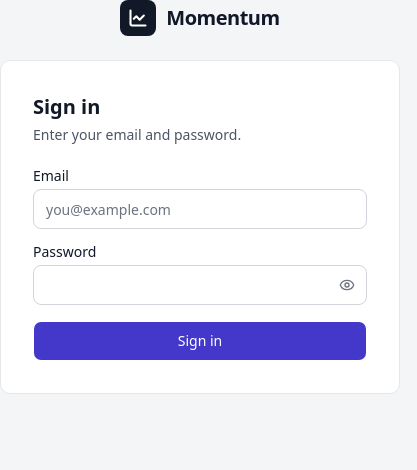
LoginCard › shows the server error and clears the password
This screenshot has width=417, height=470.
Step 1. Type "me@example.com" into the field labelled "Email" → (200, 209), box [33,189,367,229]
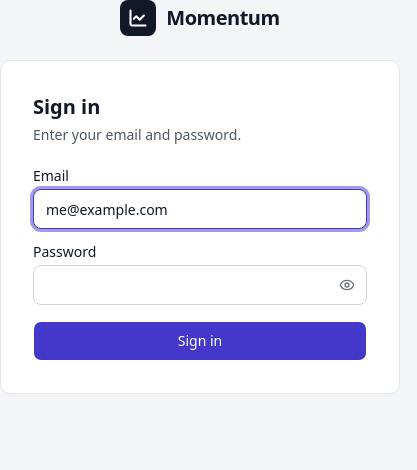
Step 2. Type "bad" into the password field labelled "Password" → (200, 285), box [33,265,367,305]
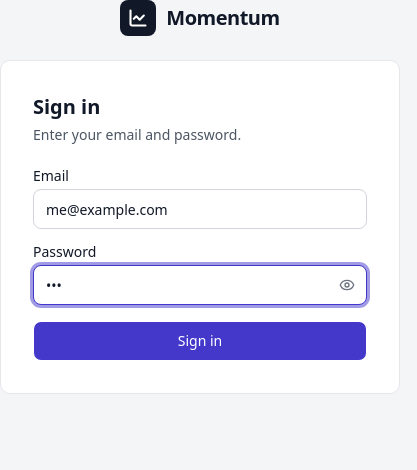
Step 3. Click the button "Sign in" → (200, 341), box [33,321,367,361]
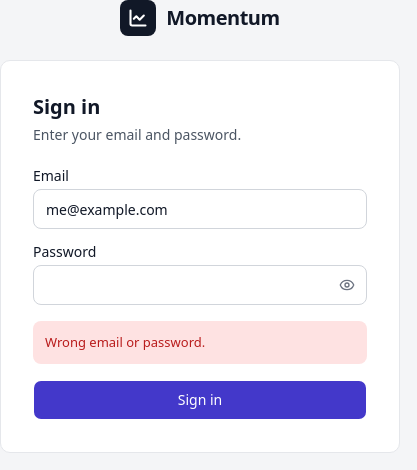
Result: the message reads "Wrong email or password." at [45,333,205,351]
Result: the password field labelled "Password" is empty at [33,265,367,305]
